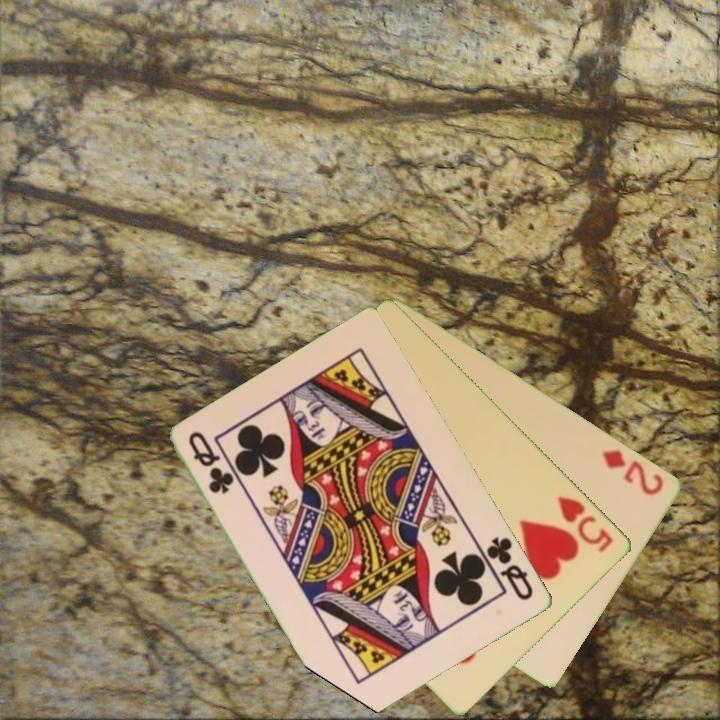2d: (599, 446, 667, 498)
5h: (554, 492, 617, 556)
Qc: (476, 533, 537, 604), (185, 427, 237, 497)
